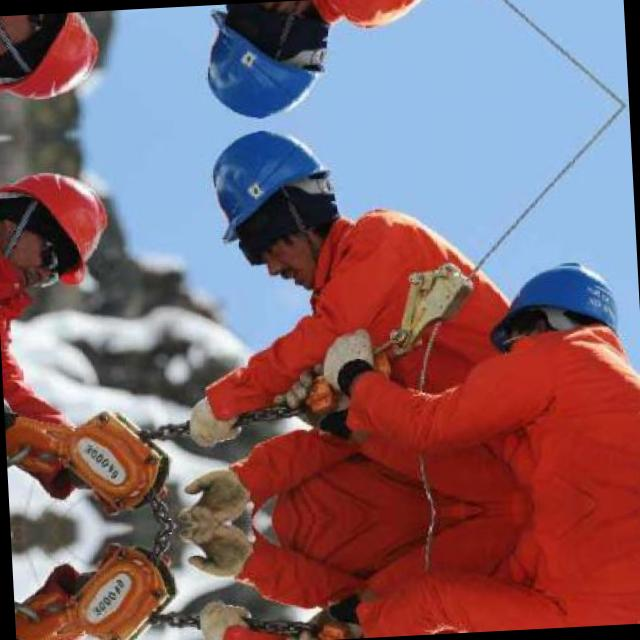helmet: (189, 125, 362, 294), (476, 245, 632, 382), (182, 0, 354, 124), (0, 157, 123, 307), (0, 11, 113, 114)
